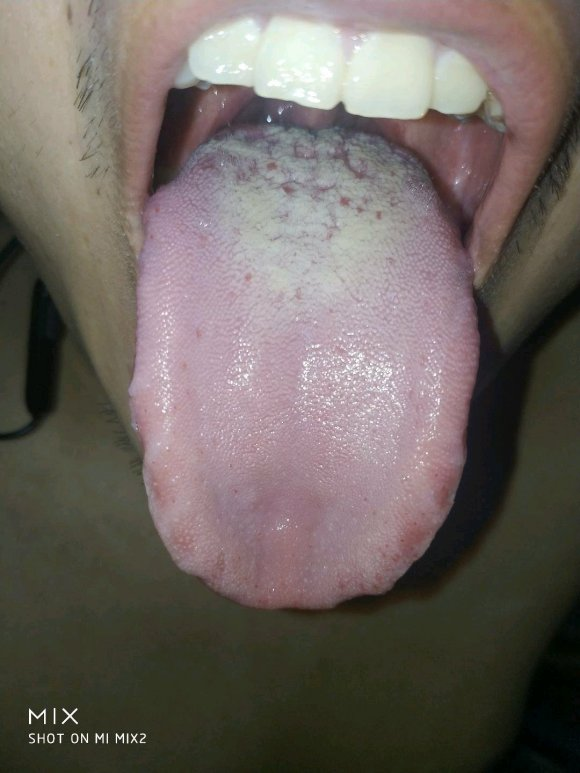baitaishe: (130, 123, 481, 612)
hongdianshe: (335, 192, 353, 211), (371, 208, 383, 222)
